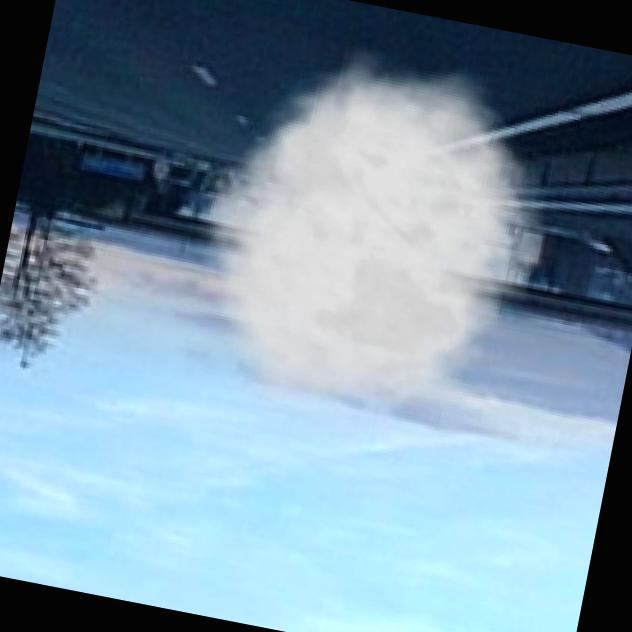smoke: (158, 20, 589, 460)
